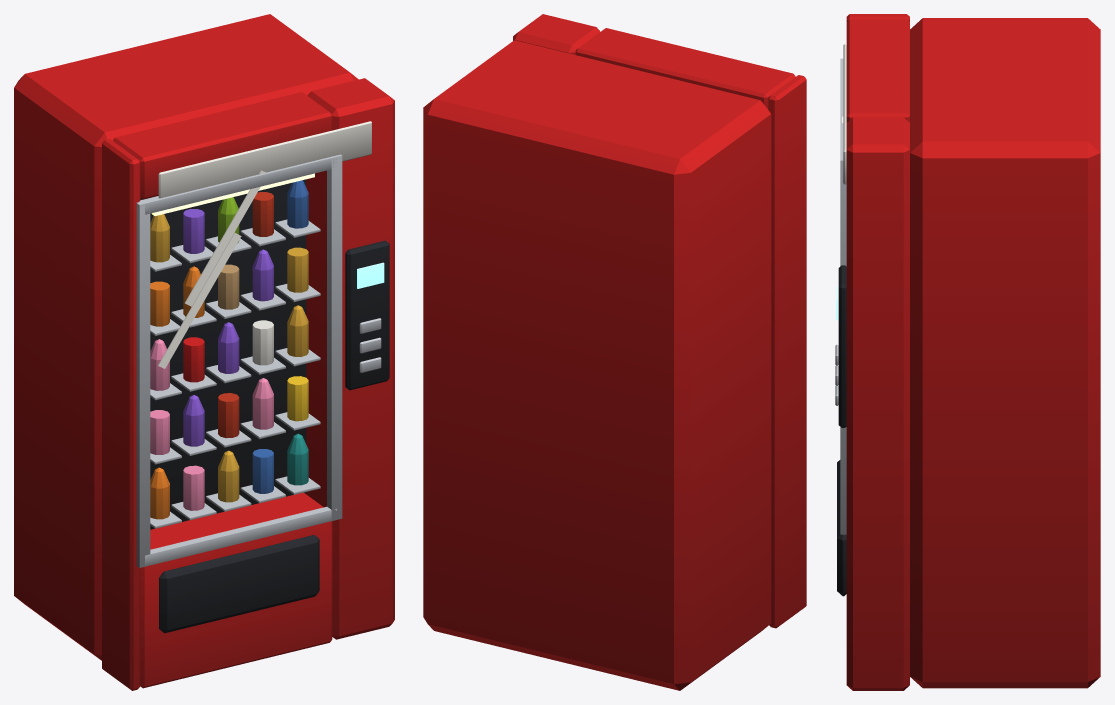
File: vending_machine_01.fbx
The picture shows the model from 3 angles, left to right: view 1: azimuth 30°, elevation 25°; view 2: azimuth 150°, elevation 25°; view 3: azimuth 270°, elevation 25°; orthographic projection. The views are drawn at different scales.
Visible parts, largest first — view 1: vending_machine_01_LOD0; view 2: vending_machine_01_LOD0; view 3: vending_machine_01_LOD0.
Boxes of the visible parts, x1,y1,x2,y2 form: vending_machine_01_LOD0: [14, 14, 394, 690]; vending_machine_01_LOD0: [423, 14, 806, 690]; vending_machine_01_LOD0: [835, 14, 1100, 690].
Size of what is drawn, in the model's own units: 1 by 1.9 by 0.835.
Materials: 1 (1 with a texture image).
